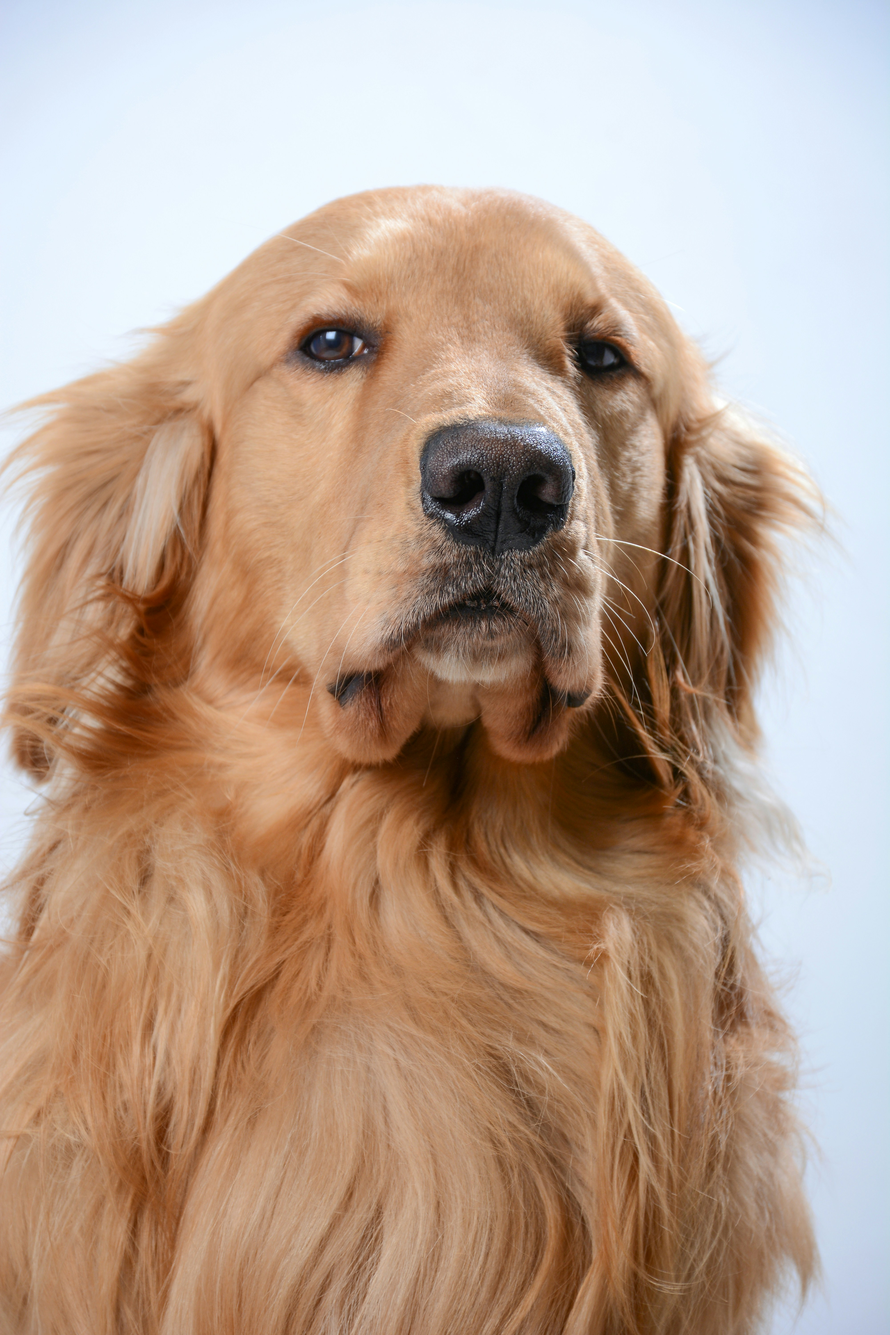dog-nose-detector: (415, 421, 576, 554)
